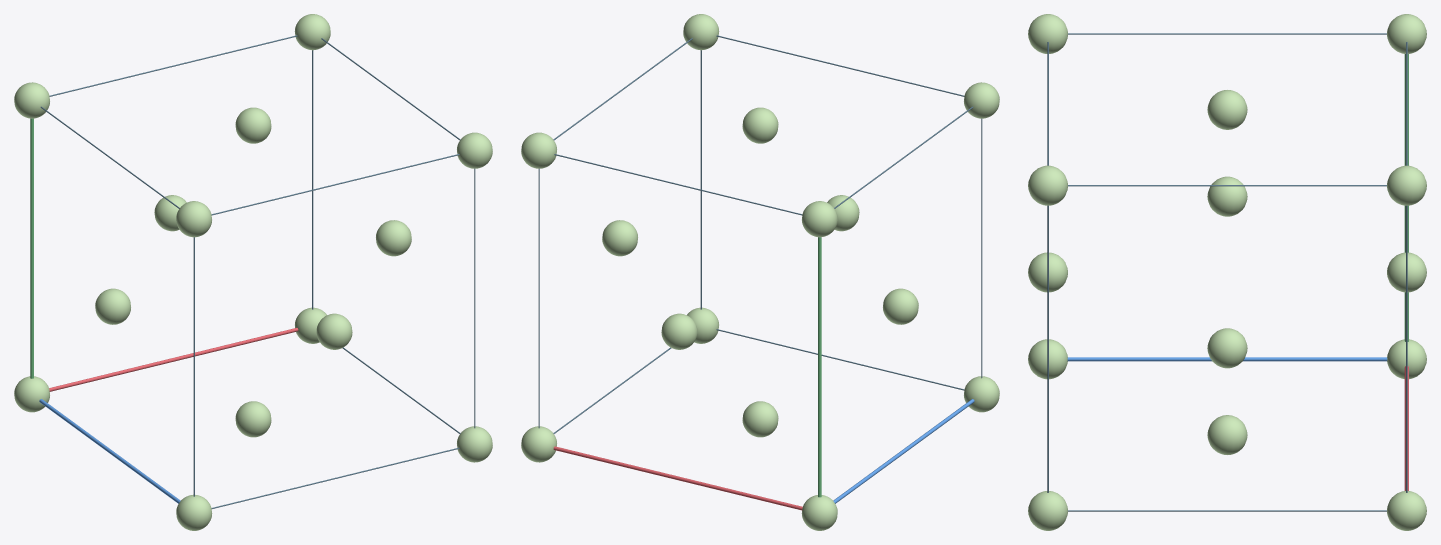
The model's file is chat-solid-krypton.glb.
The picture shows the model from 3 angles, left to right: view 1: azimuth 30°, elevation 25°; view 2: azimuth 150°, elevation 25°; view 3: azimuth 270°, elevation 25°; orthographic projection. The views are drawn at different scales.
Parts seen in each view (by area): view 1: Kr · Kr · 1 (×14), Ô mạng và các trục a, b, c; view 2: Kr · Kr · 1 (×14), Ô mạng và các trục a, b, c; view 3: Kr · Kr · 1 (×14), Ô mạng và các trục a, b, c.
Part boxes in pixels (x1,y1,x2,y2): Kr · Kr · 1 (×14): (14,14,492,530); Ô mạng và các trục a, b, c: (30,35,475,508); Kr · Kr · 1 (×14): (521,14,999,530); Ô mạng và các trục a, b, c: (538,35,982,510); Kr · Kr · 1 (×14): (1028,14,1426,530); Ô mạng và các trục a, b, c: (1047,33,1408,511).
Bounding box in the file's own units: 6.36 × 6.36 × 6.36.
